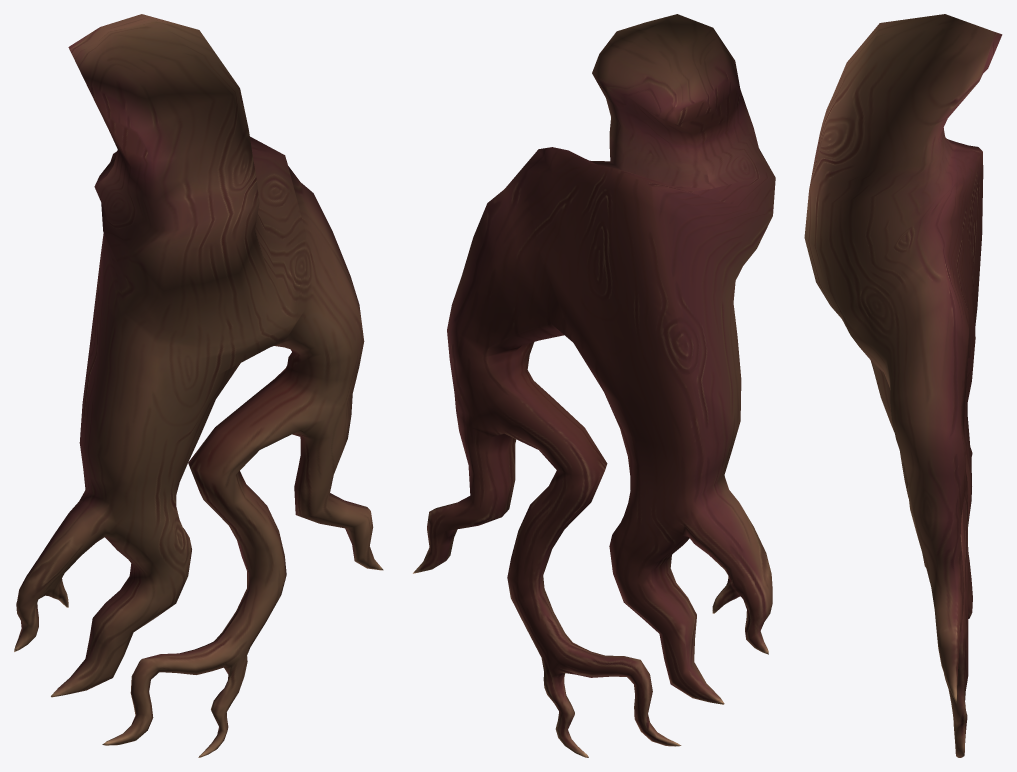
File: TreeRootWall.fbx
The picture shows the model from 3 angles, left to right: view 1: azimuth 30°, elevation 25°; view 2: azimuth 150°, elevation 25°; view 3: azimuth 270°, elevation 25°; orthographic projection. The views are drawn at different scales.
Parts seen in each view (by area): view 1: TreeRootWall_low; view 2: TreeRootWall_low; view 3: TreeRootWall_low.
Part boxes in pixels (x1,y1,x2,y2): TreeRootWall_low: (14, 14, 383, 757); TreeRootWall_low: (413, 14, 775, 757); TreeRootWall_low: (804, 14, 1002, 757).
Bounding box in the file's own units: 8.38 × 16.4 × 4.18.
